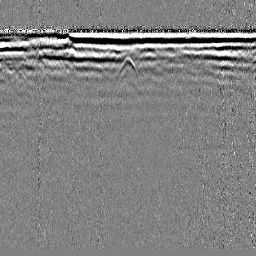cavity: (118, 55, 139, 79)
